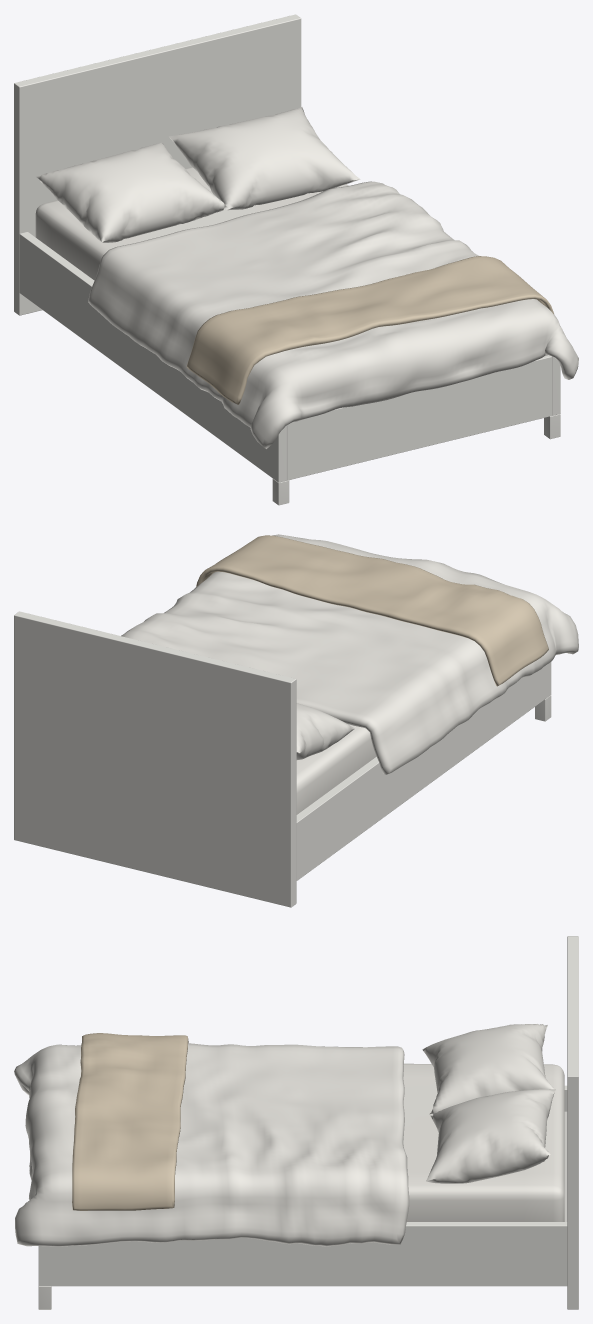
The model's file is bed_120.glb.
The picture shows the model from 3 angles, top to bottom: view 1: azimuth 30°, elevation 25°; view 2: azimuth 150°, elevation 25°; view 3: azimuth 270°, elevation 25°; orthographic projection. The views are drawn at different scales.
Visible parts, largest first — view 1: bed_soft, bed_hard; view 2: bed_hard, bed_soft; view 3: bed_soft, bed_hard.
Boxes of the visible parts, x1=… form: bed_soft: x1=35, y1=107, x2=578, y2=448; bed_hard: x1=14, y1=14, x2=560, y2=505; bed_hard: x1=14, y1=611, x2=551, y2=907; bed_soft: x1=121, y1=534, x2=578, y2=814; bed_soft: x1=14, y1=1024, x2=564, y2=1246; bed_hard: x1=38, y1=936, x2=578, y2=1309.
Bounding box in the file's own units: 1.49 × 1 × 2.19.
